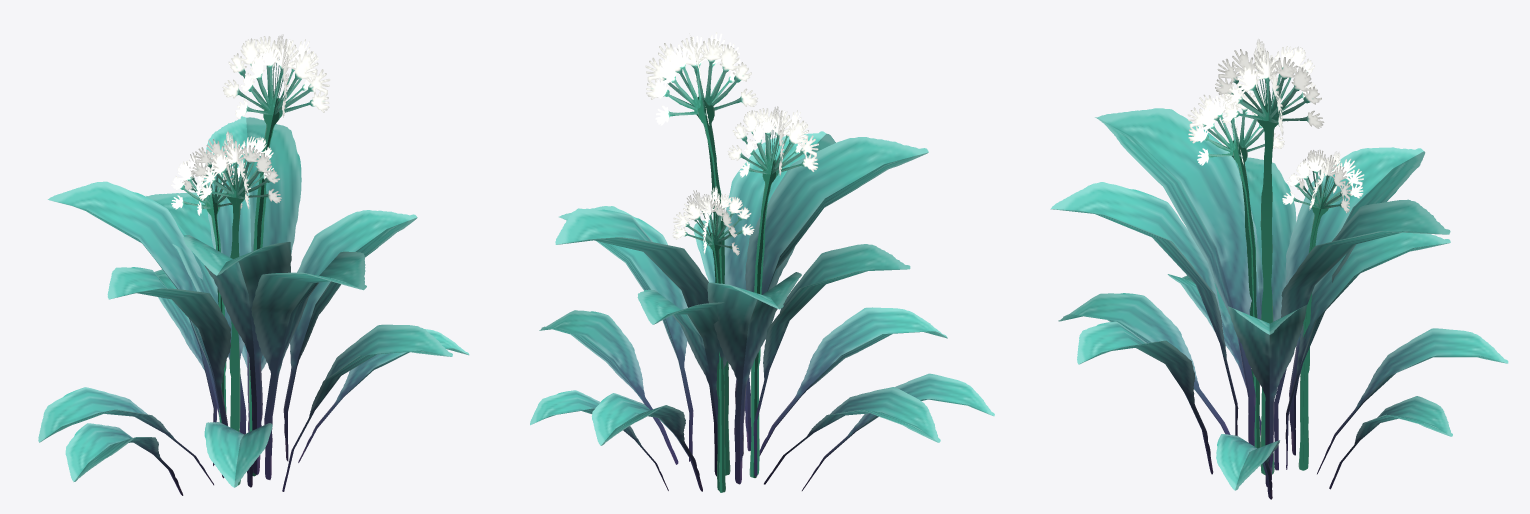
The model's file is SM_ENV_plant_ancient_07.fbx.
3 views of the same model, side by side, from view 1: azimuth 30°, elevation 25°; view 2: azimuth 150°, elevation 25°; view 3: azimuth 270°, elevation 25° (orthographic). The views are drawn at different scales.
Parts seen in each view (by area): view 1: SM_ENV_plant_ancient_07_LOD0; view 2: SM_ENV_plant_ancient_07_LOD0; view 3: SM_ENV_plant_ancient_07_LOD0.
Part boxes in pixels (x1,y1,x2,y2): SM_ENV_plant_ancient_07_LOD0: (38,34,469,495); SM_ENV_plant_ancient_07_LOD0: (530,32,994,492); SM_ENV_plant_ancient_07_LOD0: (1050,39,1508,499).
Size of the model in its own units: 63.49 by 59.52 by 56.79.
